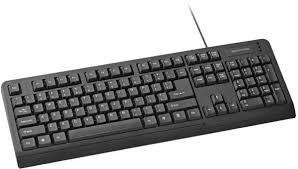keyboard: (0, 36, 295, 169)
